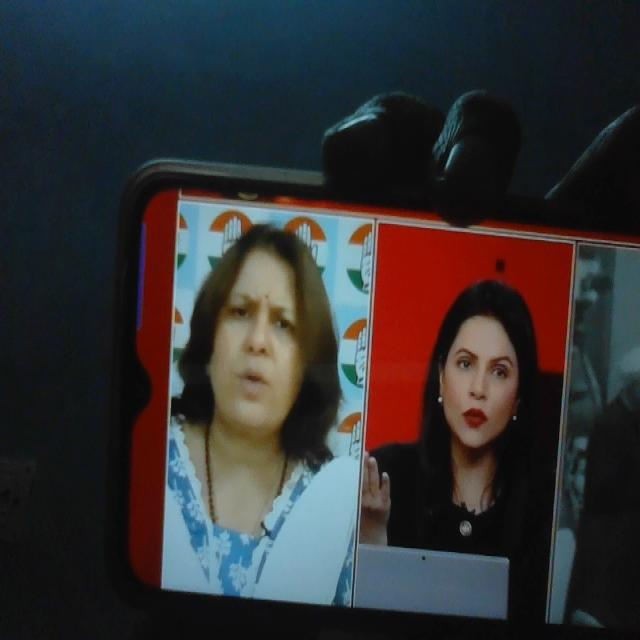fake: (201, 215, 321, 441), (429, 260, 538, 465)
